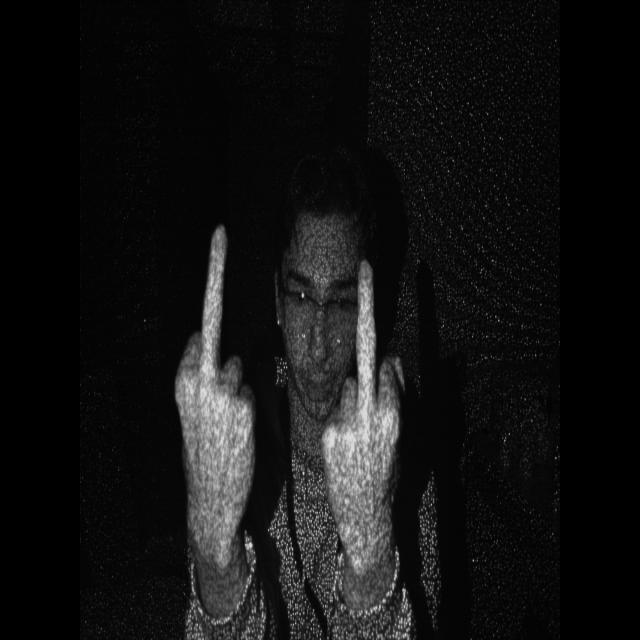FUCK YOU: (162, 204, 266, 582), (313, 243, 427, 579)
